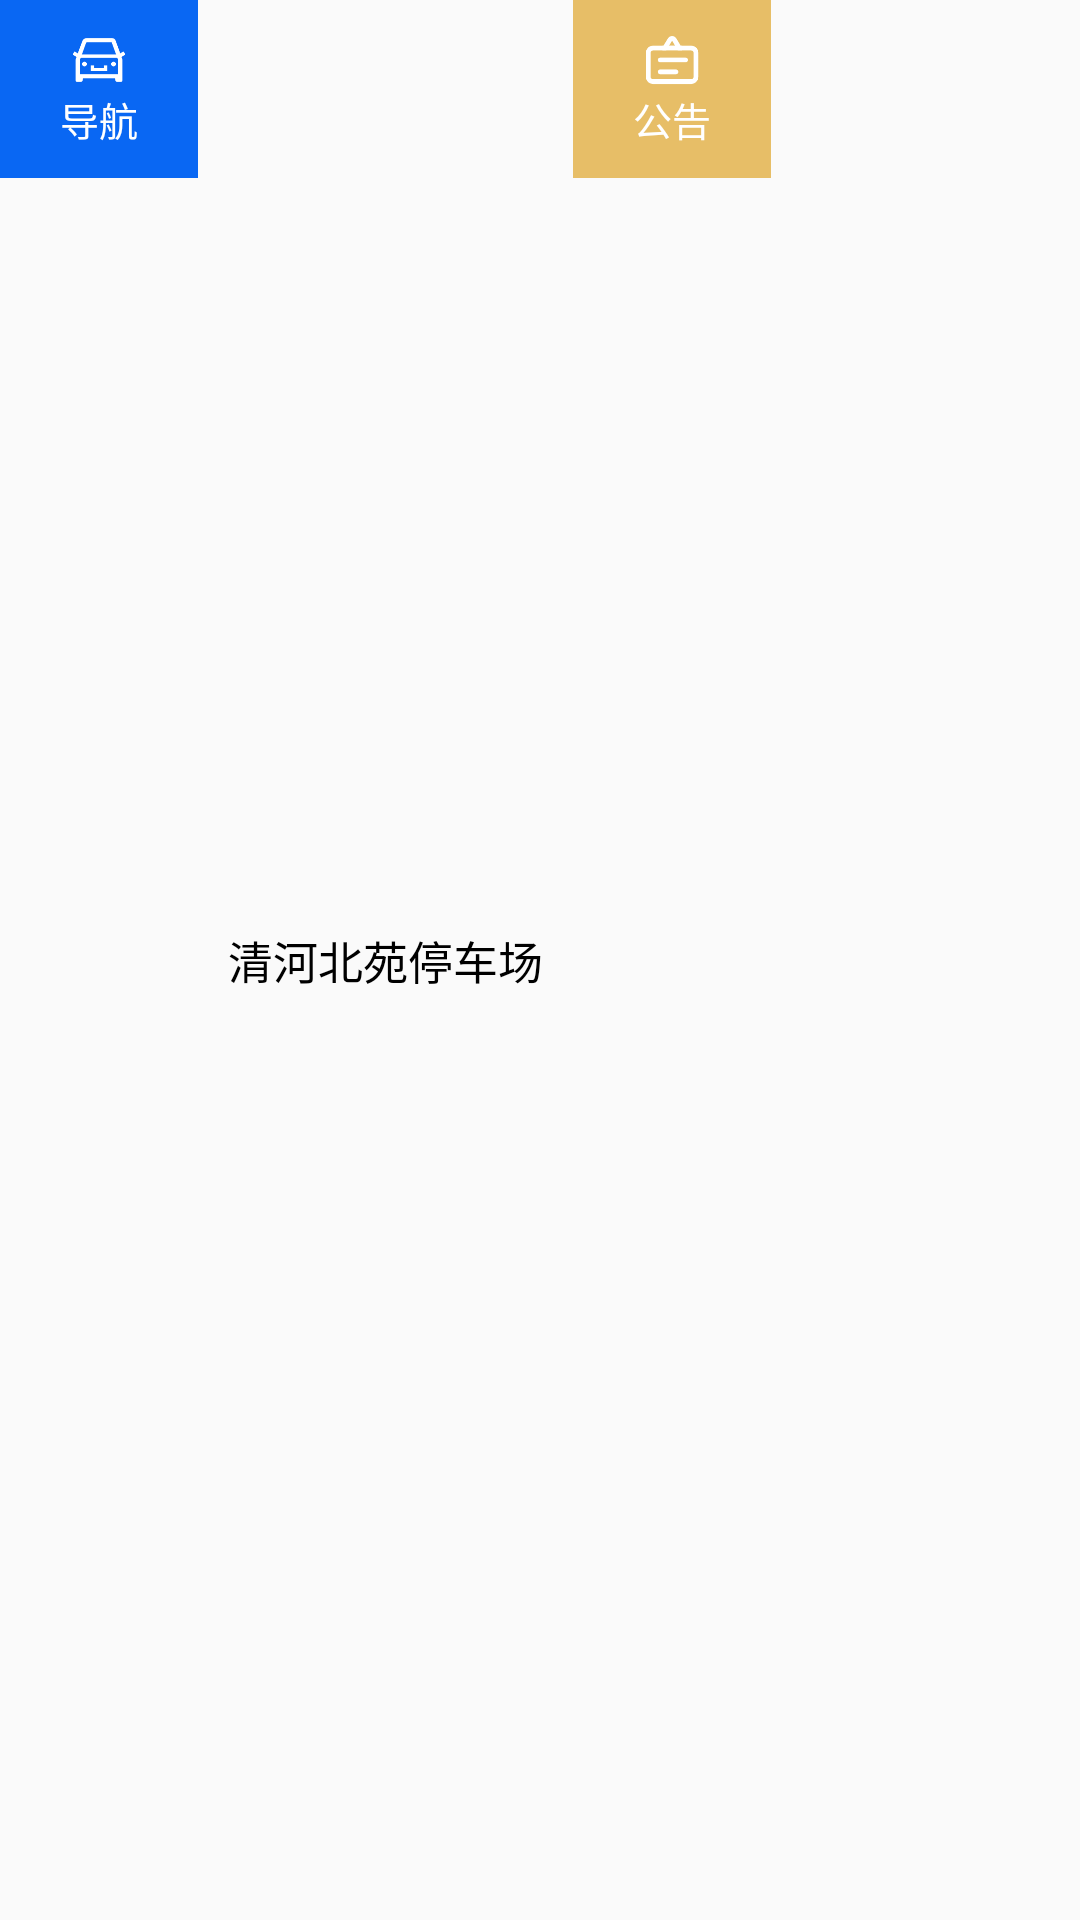

Icons on this 1080 x 1920 Android screen, each with the point to tap as (x,y):
car: (99,60)
